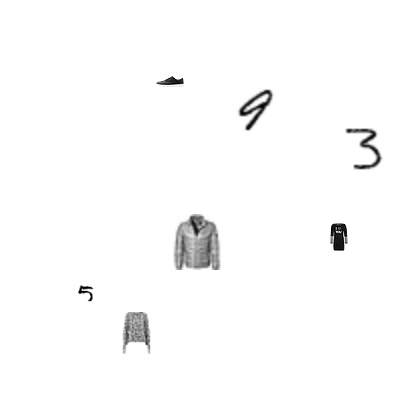3: (338, 119, 394, 175)
5: (75, 280, 97, 302)
9: (226, 80, 282, 136)
Coat: (168, 214, 224, 270)
Dress: (325, 223, 353, 251)
Shirt: (114, 312, 156, 354)
Sneaker: (156, 67, 184, 95)
